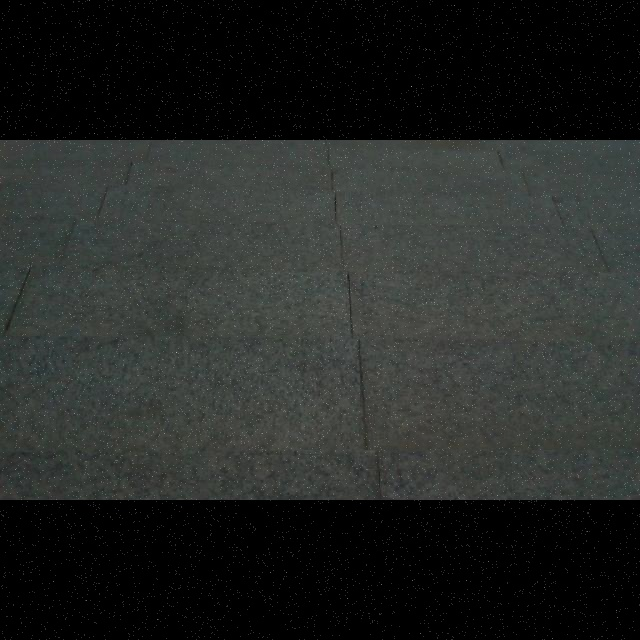stair: (3, 142, 640, 483)
